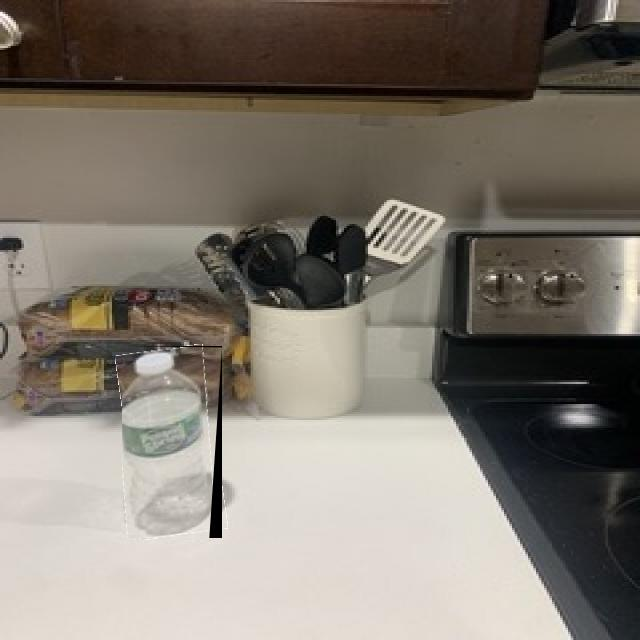water_bottle: (122, 346, 222, 538)
